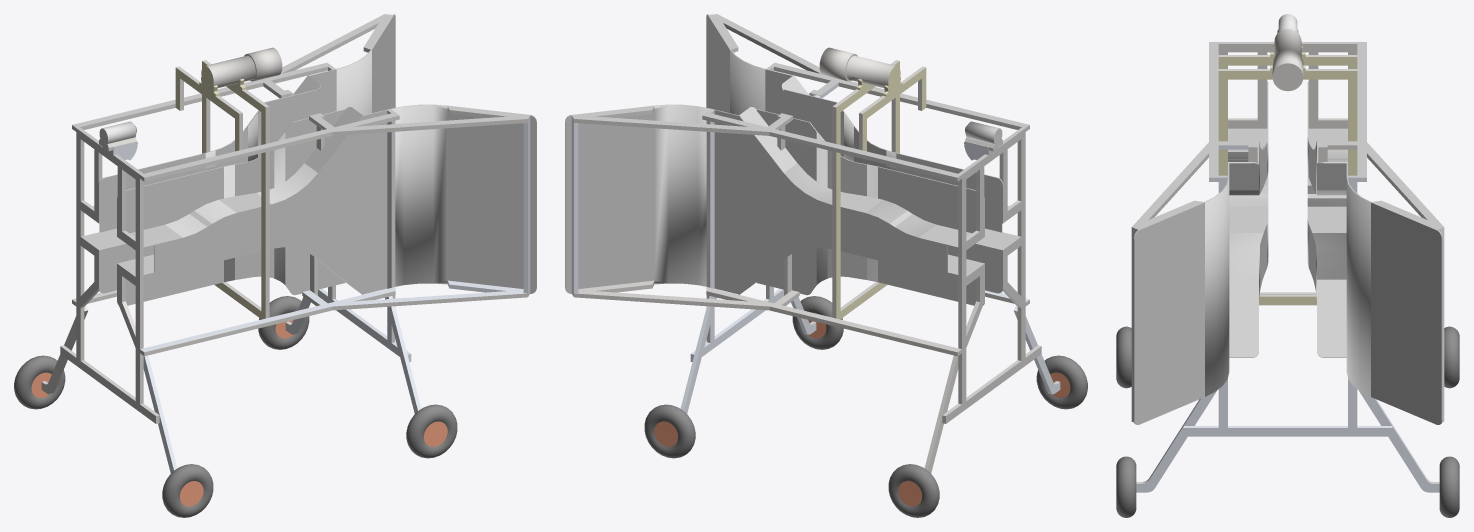
File: medusa_dock.dae
3 views of the same model, side by side, from view 1: azimuth 30°, elevation 25°; view 2: azimuth 150°, elevation 25°; view 3: azimuth 270°, elevation 25° (orthographic). The views are drawn at different scales.
Parts seen in each view (by area): view 1: _ncl1_2; view 2: _ncl1_2; view 3: _ncl1_2.
Boxes of the visible parts, bbox=[...] form: _ncl1_2: bbox=[14, 14, 536, 517]; _ncl1_2: bbox=[565, 14, 1087, 517]; _ncl1_2: bbox=[1116, 14, 1459, 517].
Size of the model in its own units: 2 by 1.45 by 1.9.
